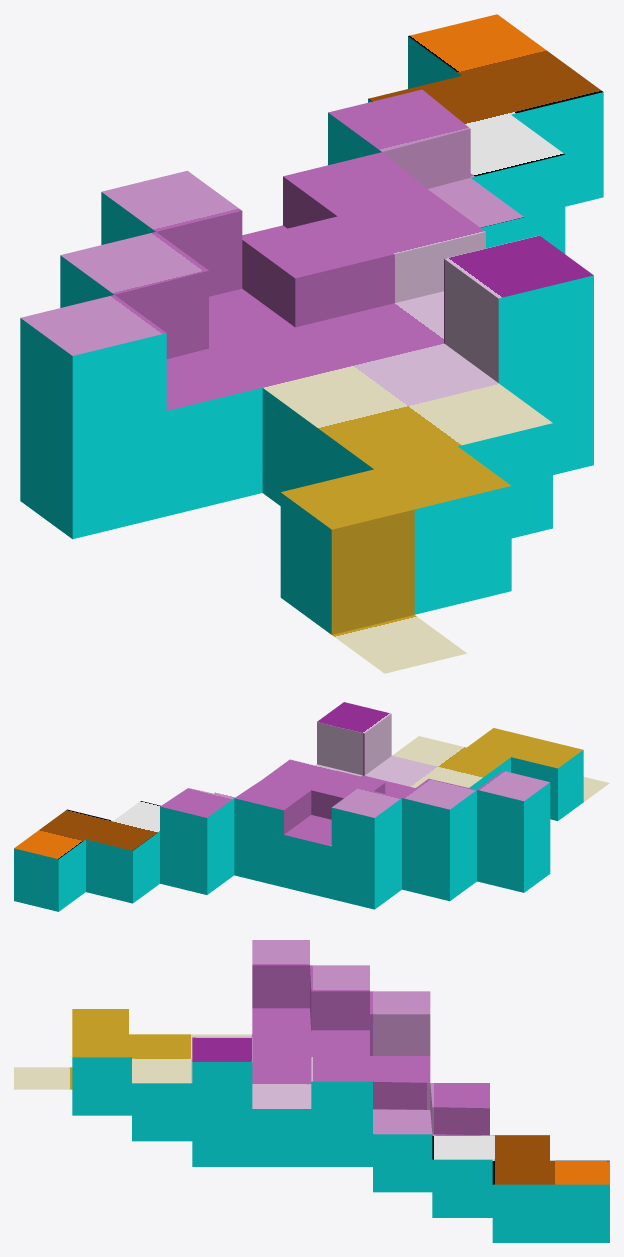
The model's file is broken_dish_546x07.gltf.
3 views of the same model, one above another, from view 1: azimuth 30°, elevation 25°; view 2: azimuth 150°, elevation 25°; view 3: azimuth 270°, elevation 25° (orthographic). The views are drawn at different scales.
Parts seen in each view (by area): view 1: broken_dish_546x07; view 2: broken_dish_546x07; view 3: broken_dish_546x07.
Part boxes in pixels (x1,y1,x2,y2): broken_dish_546x07: (20, 14, 603, 673); broken_dish_546x07: (14, 702, 609, 911); broken_dish_546x07: (14, 940, 609, 1242).
Bounding box in the file's own units: 0.3716 × 0.0901 × 0.464.
1 material, 1 textured.
